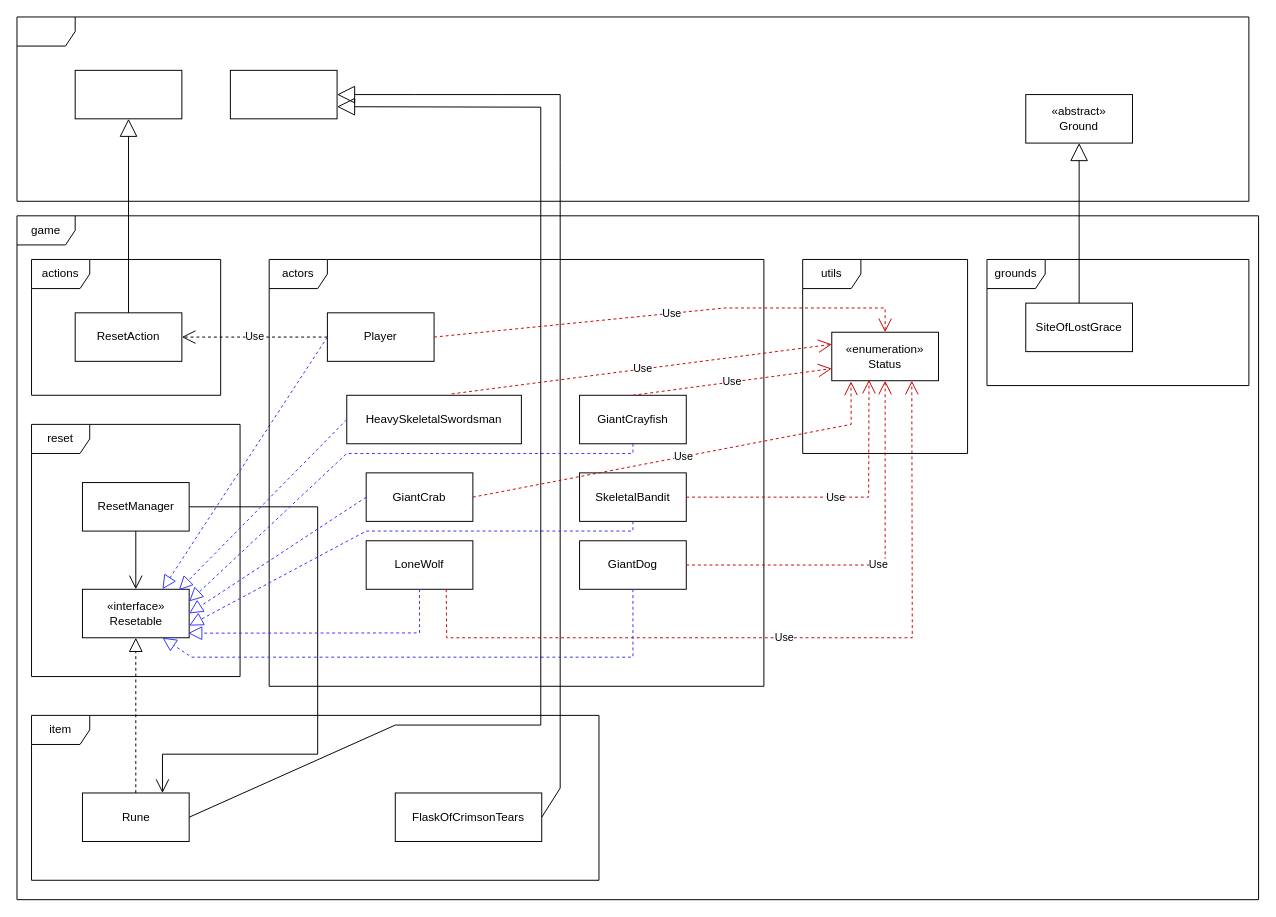
This 1276x917 diagram has some shape labels left out. Each missing label, with the box of its shape:
engine: (16, 16, 1249, 201)
«abstract» Abstract: (74, 69, 182, 119)
«abstract» Item: (229, 69, 337, 119)
